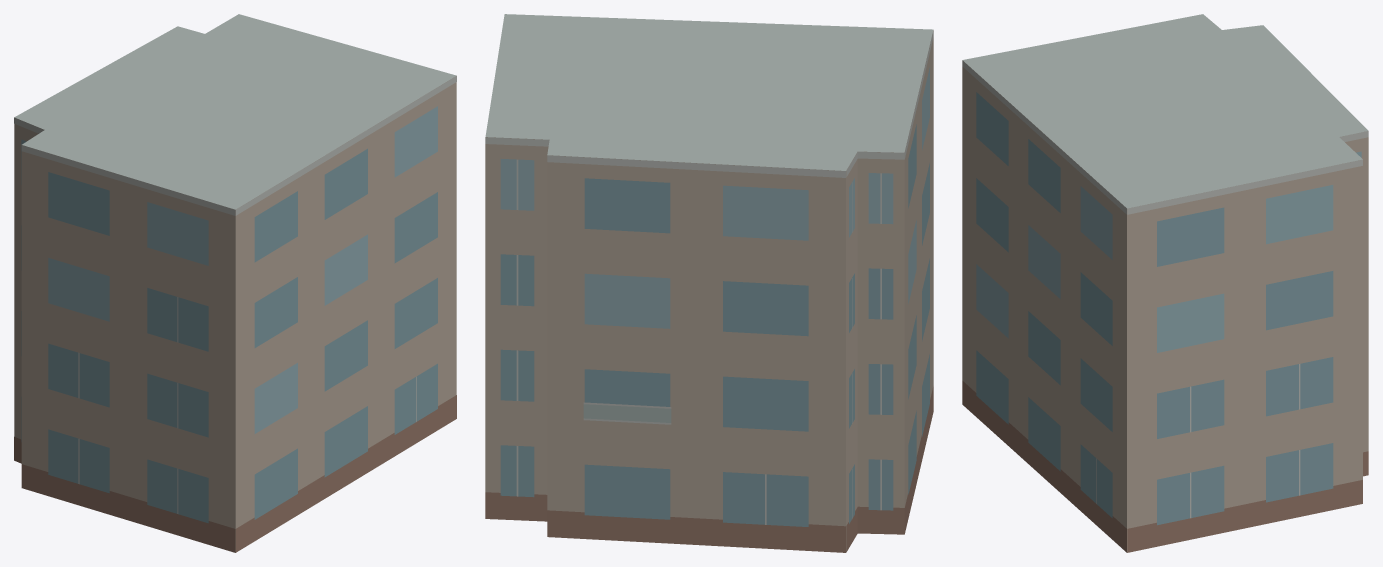
File: survey-upis-32759384.glb
3 views of the same model, side by side, from view 1: azimuth 30°, elevation 25°; view 2: azimuth 150°, elevation 25°; view 3: azimuth 270°, elevation 25° (orthographic). The views are drawn at different scales.
Parts seen in each view (by area): view 1: survey-upis-32759384.tmp; view 2: survey-upis-32759384.tmp; view 3: survey-upis-32759384.tmp.
Part boxes in pixels (x1,y1,x2,y2): survey-upis-32759384.tmp: (14,14,456,552); survey-upis-32759384.tmp: (485,14,933,552); survey-upis-32759384.tmp: (962,14,1368,552).
Size of the model in its own units: 16.13 by 13.3 by 14.23.
